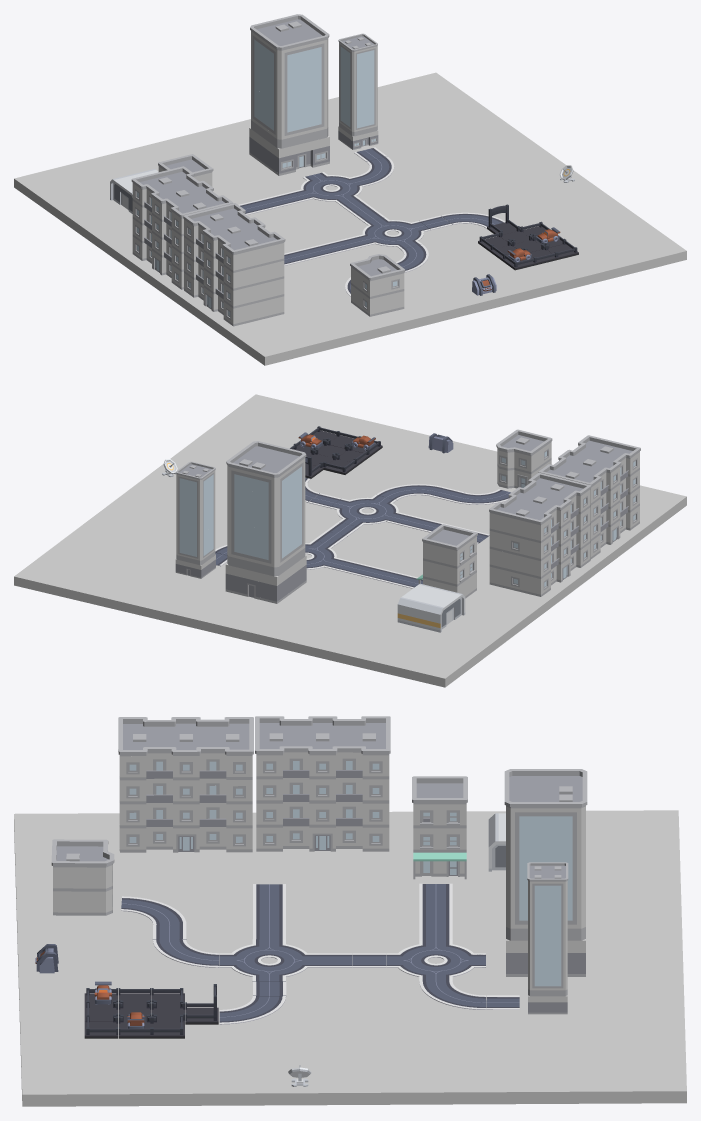
File: main.gltf
The picture shows the model from 3 angles, top to bottom: view 1: azimuth 30°, elevation 25°; view 2: azimuth 150°, elevation 25°; view 3: azimuth 270°, elevation 25°; orthographic projection. The views are drawn at different scales.
Visible parts, largest first — view 1: MeshInstance3D, skyscraperA, large_buildingA, large_buildingA4, skyscraperB, small_buildingB, road-roundabout, road-roundabout3, small_buildingD, road-curve, road-curve4, road-curve6 (+1 smaller); view 2: MeshInstance3D, skyscraperA, large_buildingA4, large_buildingA, skyscraperB, small_buildingD, small_buildingB, hangar_smallA, road-roundabout, road-roundabout3, road-curve6, road-curve5; view 3: MeshInstance3D, large_buildingA, large_buildingA4, skyscraperA, skyscraperB, small_buildingD, small_buildingB, road-roundabout, road-roundabout3, road-curve6, road-curve, road-curve4 (+7 smaller).
Part boxes in pixels (left/top/right/bottom): MeshInstance3D: left=14, top=72, right=686, bottom=365; skyscraperA: left=249, top=14, right=329, bottom=175; large_buildingA: left=183, top=203, right=285, bottom=326; large_buildingA4: left=131, top=166, right=233, bottom=289; skyscraperB: left=338, top=33, right=378, bottom=149; small_buildingB: left=350, top=254, right=405, bottom=316; road-roundabout: left=355, top=217, right=430, bottom=249; road-roundabout3: left=294, top=172, right=369, bottom=203; small_buildingD: left=158, top=154, right=213, bottom=186; road-curve: left=357, top=156, right=394, bottom=184; road-curve4: left=441, top=212, right=505, bottom=228; road-curve6: left=396, top=244, right=428, bottom=272; MeshInstance3D: left=14, top=394, right=686, bottom=687; skyscraperA: left=225, top=441, right=306, bottom=603; large_buildingA4: left=489, top=472, right=591, bottom=596; large_buildingA: left=538, top=435, right=640, bottom=559; skyscraperB: left=175, top=461, right=215, bottom=578; small_buildingD: left=416, top=524, right=477, bottom=598; small_buildingB: left=496, top=429, right=552, bottom=488; hangar_smallA: left=397, top=583, right=465, bottom=632; road-roundabout: left=329, top=494, right=405, bottom=526; road-roundabout3: left=305, top=540, right=343, bottom=569; road-curve6: left=376, top=484, right=442, bottom=500; road-curve5: left=452, top=489, right=510, bottom=504; MeshInstance3D: left=14, top=810, right=686, bottom=1106; large_buildingA: left=118, top=717, right=253, bottom=852; large_buildingA4: left=255, top=716, right=390, bottom=851; skyscraperA: left=504, top=769, right=587, bottom=976; skyscraperB: left=527, top=862, right=568, bottom=1014; small_buildingD: left=412, top=776, right=467, bottom=879; small_buildingB: left=51, top=839, right=114, bottom=915; road-roundabout: left=219, top=939, right=319, bottom=981; road-roundabout3: left=386, top=939, right=485, bottom=981; road-curve6: left=152, top=939, right=219, bottom=967; road-curve: left=419, top=981, right=485, bottom=1009; road-curve4: left=219, top=996, right=285, bottom=1024.
Size of the model in its own units: 101 by 30.8 by 101.
42 materials, 9 textured.
